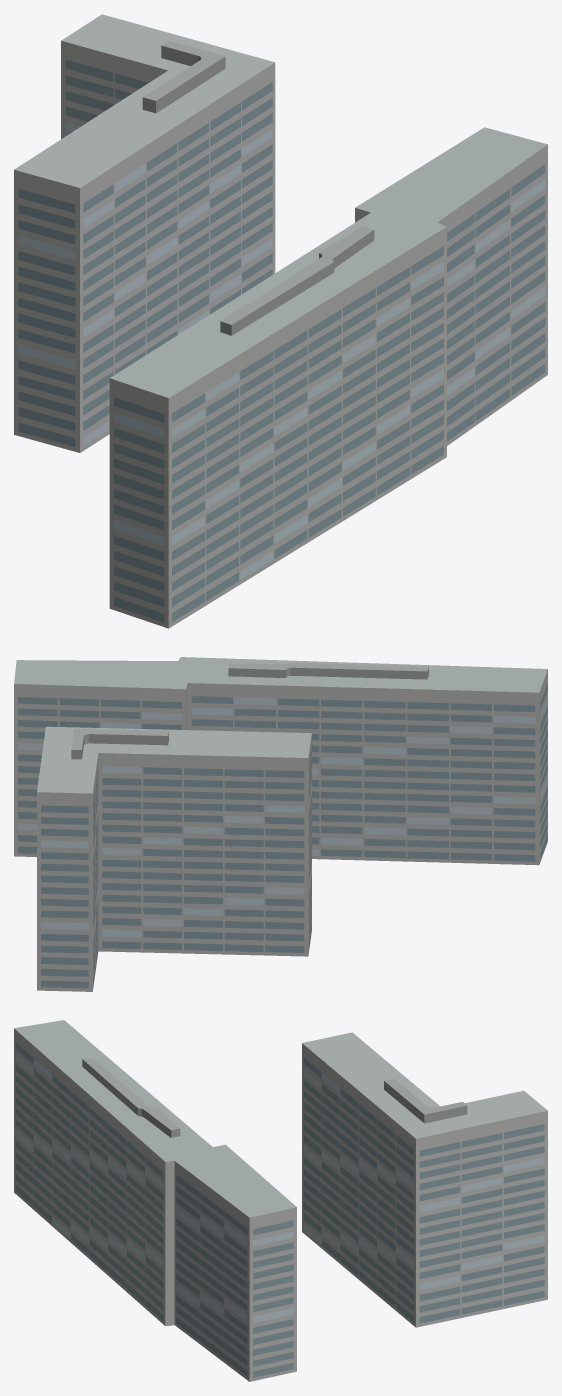
The model's file is apt-a13204003.glb.
3 renders of one model, top to bottom at view 1: azimuth 30°, elevation 25°; view 2: azimuth 150°, elevation 25°; view 3: azimuth 270°, elevation 25°, orthographic. The views are drawn at different scales.
Visible parts, largest first — view 1: apt-a13204003; view 2: apt-a13204003; view 3: apt-a13204003.
Boxes of the visible parts, x1,y1,x2,y2 form: apt-a13204003: (14, 14, 547, 628); apt-a13204003: (14, 657, 547, 991); apt-a13204003: (14, 1020, 547, 1381).
Size of the model in its own units: 98.56 by 46 by 113.
